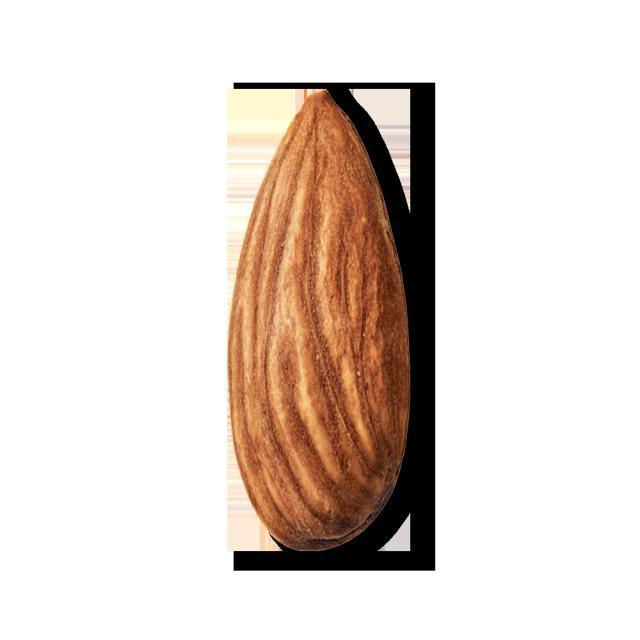almond: (230, 85, 410, 552)
